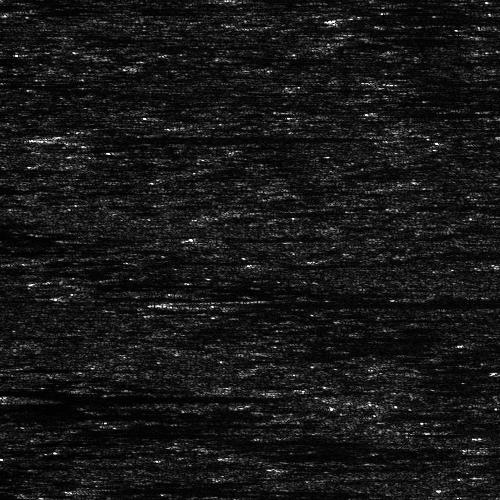rock: (212, 449, 285, 460), (148, 299, 241, 306), (0, 393, 52, 400), (473, 367, 500, 378), (33, 134, 74, 141), (336, 12, 367, 19), (385, 294, 426, 299), (194, 232, 205, 241)
shadow: (0, 411, 207, 422), (195, 299, 500, 306), (249, 449, 433, 460), (54, 134, 301, 141), (16, 393, 247, 400), (200, 232, 326, 241), (352, 12, 500, 19), (406, 294, 500, 299), (0, 186, 47, 191)
